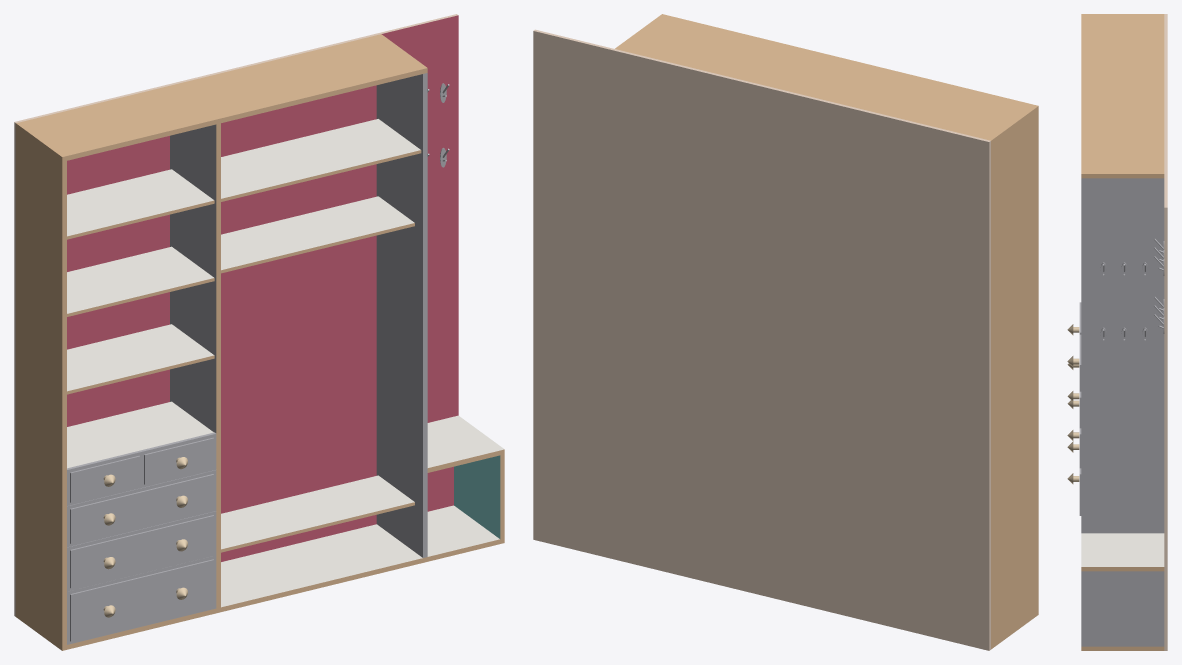
The model's file is merabitest.glb.
The picture shows the model from 3 angles, left to right: view 1: azimuth 30°, elevation 25°; view 2: azimuth 150°, elevation 25°; view 3: azimuth 270°, elevation 25°; orthographic projection. The views are drawn at different scales.
Visible parts, largest first — view 1: Node4, Node1, Node6, Node5, Node7, Node3, Node2; view 2: Node3, Node5; view 3: Node1, Node5, Node6, Node3, Node2.
Part boxes in pixels (x1,y1,x2,y2): Node4: (67,15,458,561); Node1: (67,73,449,644); Node6: (67,119,504,607); Node5: (16,34,504,650); Node7: (454,455,500,538); Node3: (14,14,457,616); Node2: (103,457,187,617); Node3: (533,29,990,650); Node5: (615,14,1038,649); Node1: (1079,178,1164,646); Node5: (1081,14,1164,650); Node6: (1081,533,1164,566); Node3: (1164,14,1167,650); Node2: (1067,324,1079,484).
Size of the model in its own units: 2870 by 3060 by 627.
